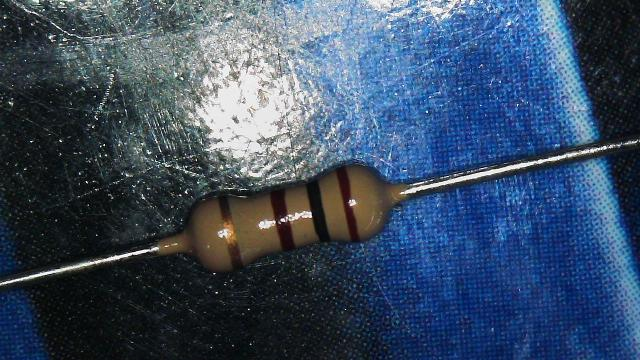black: (302, 183, 328, 242)
brown: (334, 168, 362, 243), (268, 190, 294, 249)
gold: (216, 192, 244, 268)
resistor: (161, 132, 423, 296)
